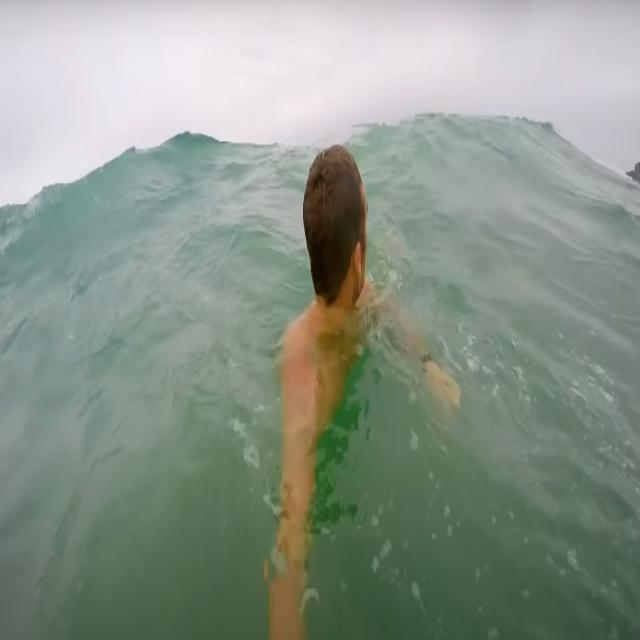Out of Water: (300, 134, 380, 348)
